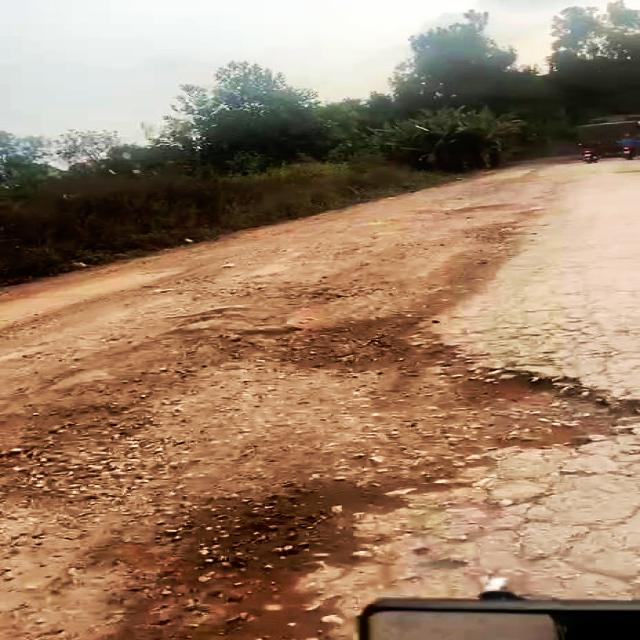pothole: (325, 335, 640, 470)
